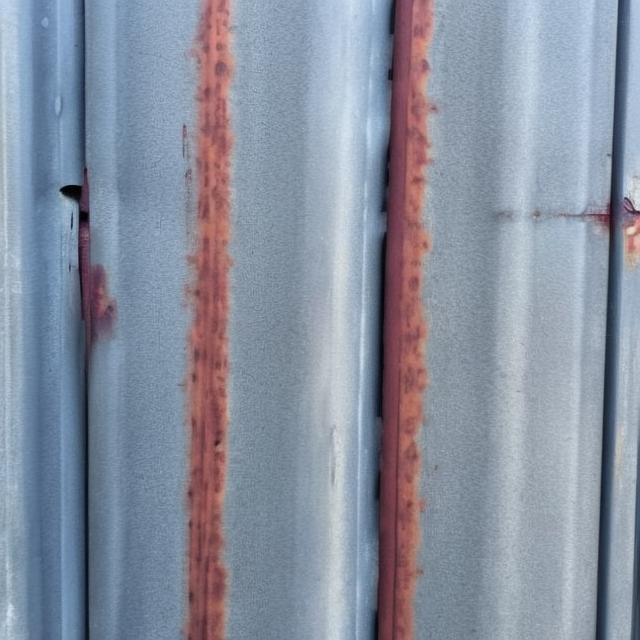Dry Waste: (26, 11, 638, 640)
